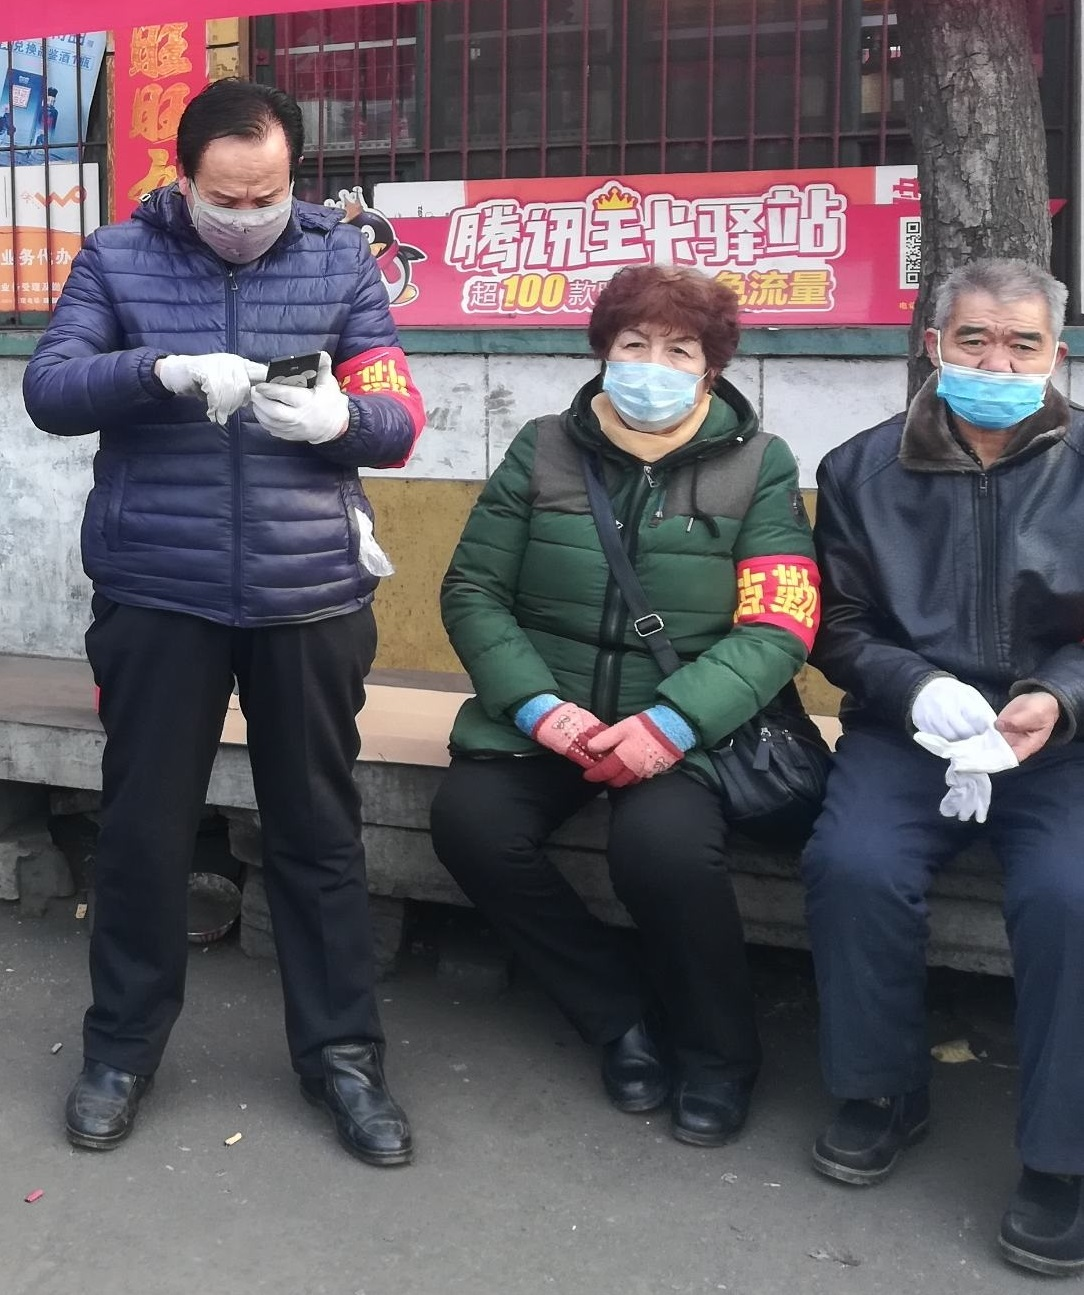mask: (278, 263, 741, 438), (173, 78, 306, 268)
nomask: (923, 258, 1068, 425)
